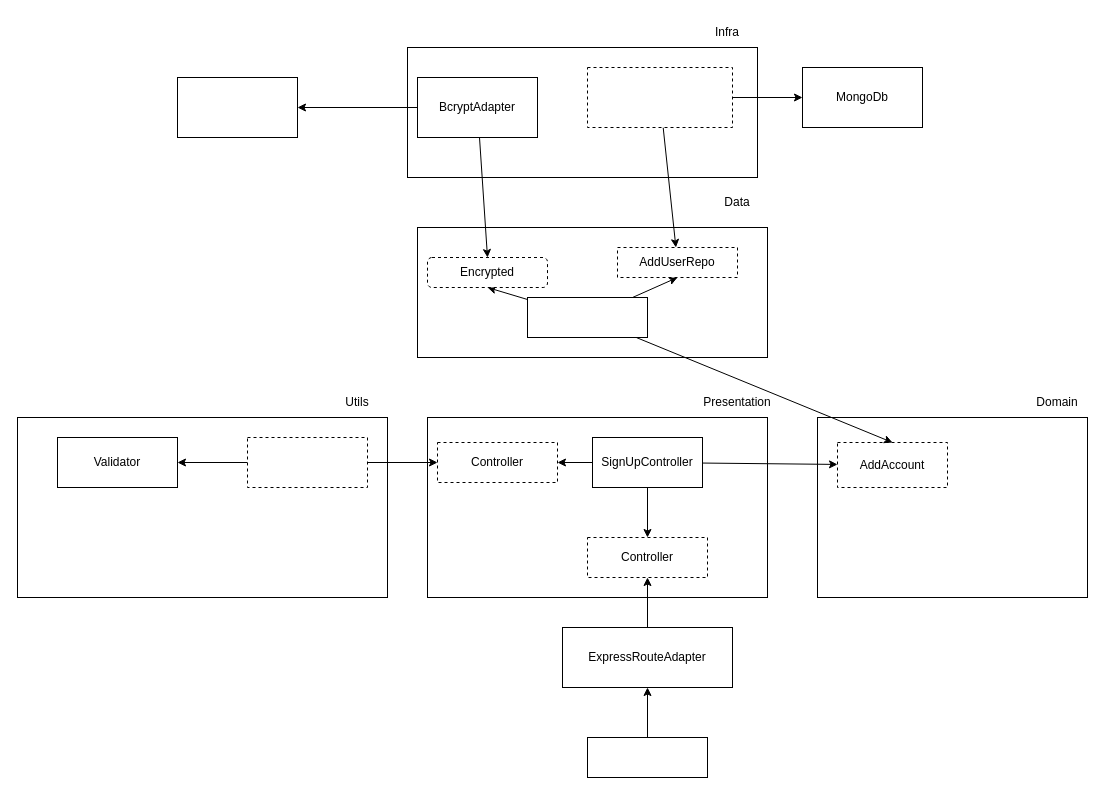
This 1105x795 diagram has some shape labels left out. Here are the shapes that lost their labels. From the top down, the centre of each, then its label:
At pixel 237 107: "Bcrypt".
At pixel 659 97: "AddUserMongoRepository".
At pixel 587 317: "DbAddAcount".
At pixel 307 462: "EmailValidatorAdapter".
At pixel 647 757: "Express".
